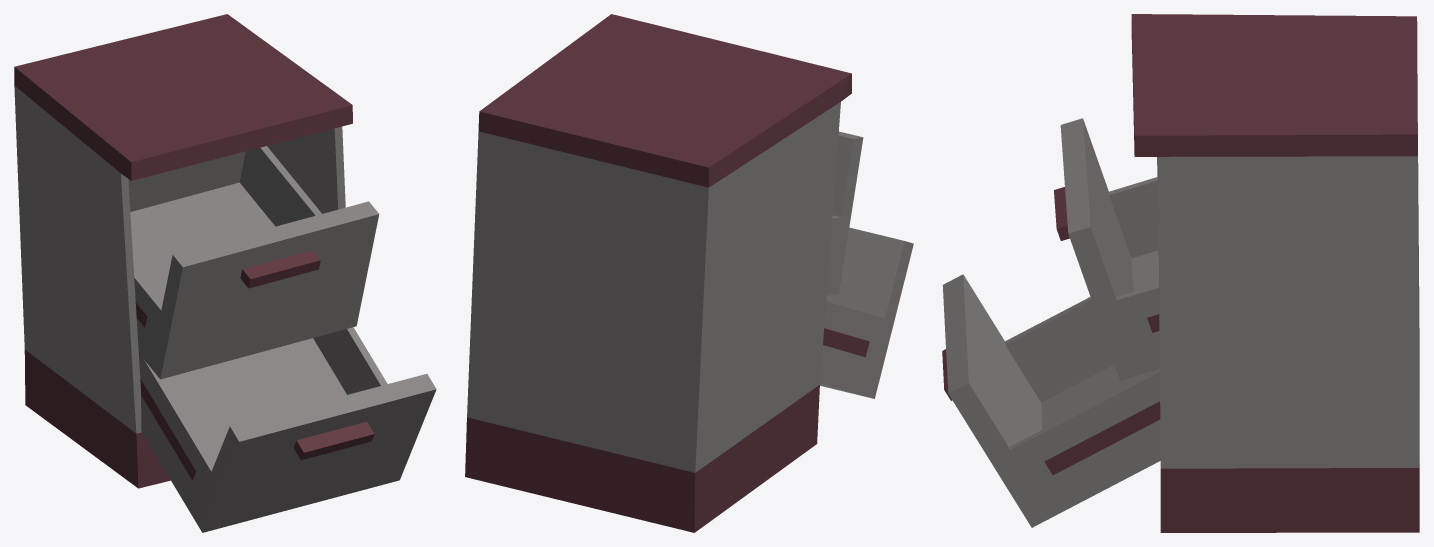
File: apocalypse-cabinet-kitchen-broken.glb
3 renders of one model, left to right at view 1: azimuth 30°, elevation 25°; view 2: azimuth 150°, elevation 25°; view 3: azimuth 270°, elevation 25°, orthographic. The views are drawn at different scales.
Parts seen in each view (by area): view 1: cabinet-kitchen-broken; view 2: cabinet-kitchen-broken; view 3: cabinet-kitchen-broken.
Boxes of the visible parts, box(x1,y1,x2,y2) form: cabinet-kitchen-broken: box(14, 14, 436, 532); cabinet-kitchen-broken: box(465, 14, 913, 532); cabinet-kitchen-broken: box(942, 14, 1419, 532).
Size of the model in its own units: 0.6572 by 0.9231 by 1.01.
